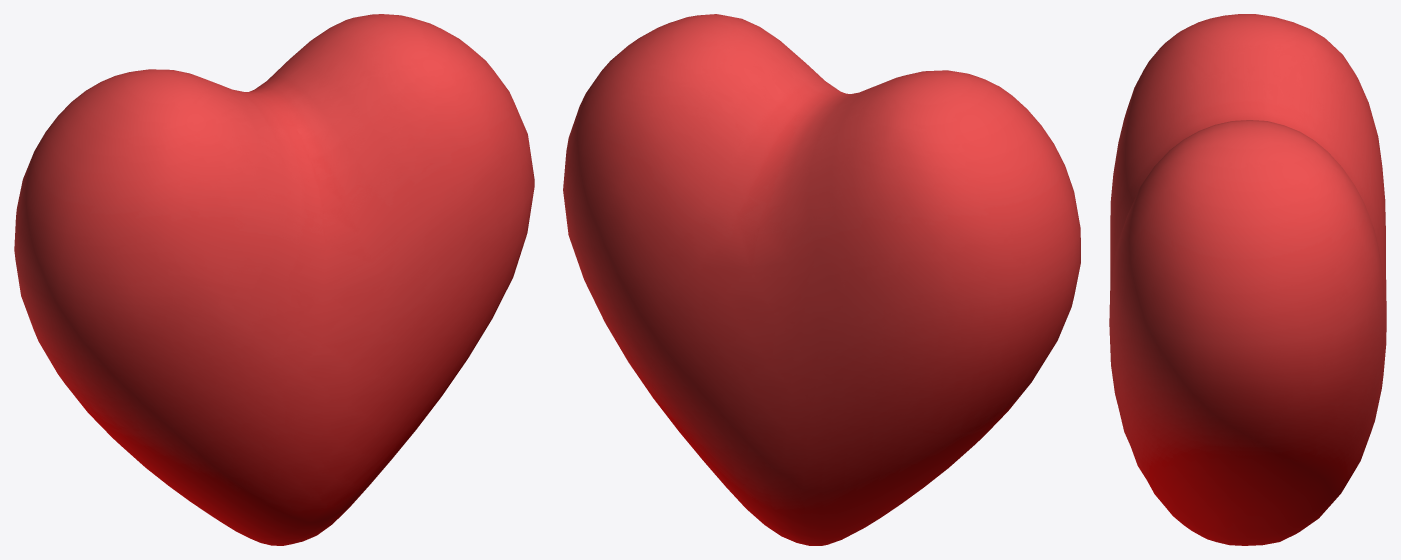
Rendered from trai tim.fbx.
The picture shows the model from 3 angles, left to right: view 1: azimuth 30°, elevation 25°; view 2: azimuth 150°, elevation 25°; view 3: azimuth 270°, elevation 25°; orthographic projection. The views are drawn at different scales.
Visible parts, largest first — view 1: Heart; view 2: Heart; view 3: Heart.
Part boxes in pixels (left/top/right/bottom): Heart: left=14, top=14, right=534, bottom=545; Heart: left=563, top=14, right=1080, bottom=545; Heart: left=1109, top=14, right=1386, bottom=545.
Size of the model in its own units: 83.29 by 79.36 by 42.87.
Materials: 1 (1 with a texture image).
